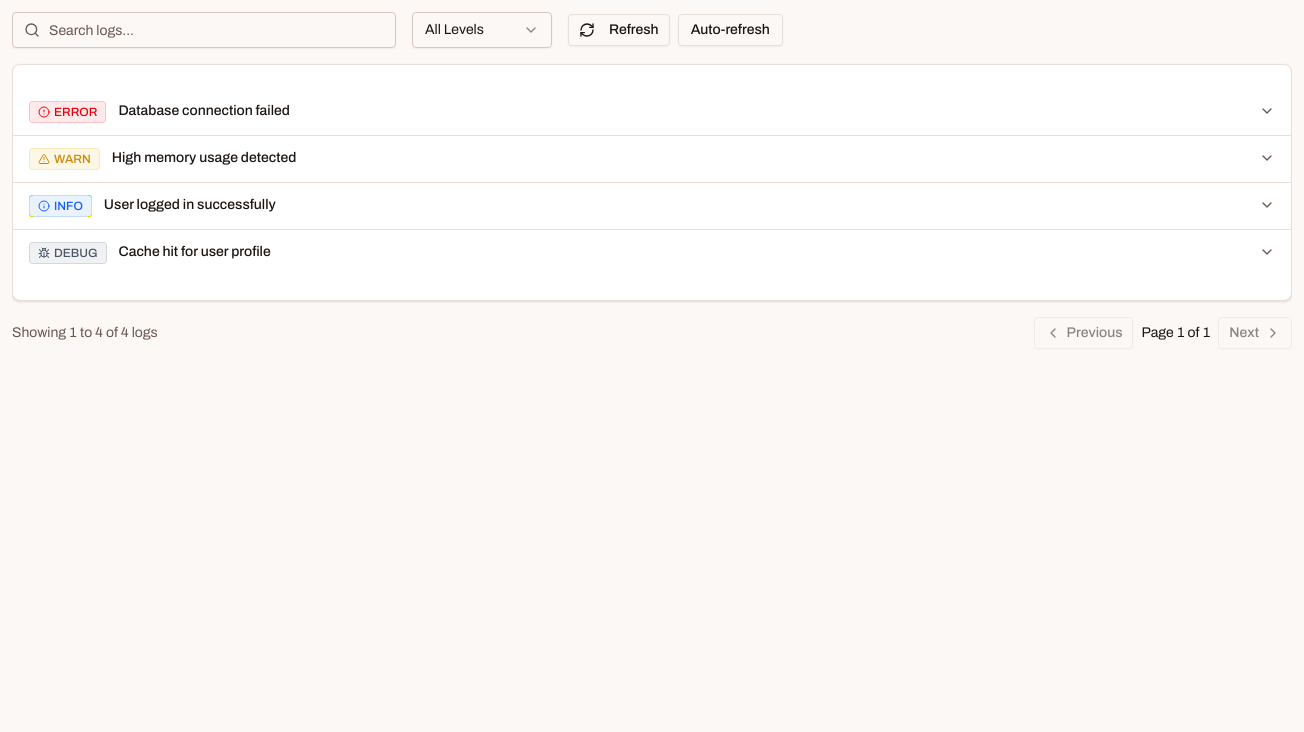
Test case: components/admin/logs-viewer › rendering › should display metadata in expandable accordion
The width and height of the screenshot is (1304, 732).
Click the button "WARN High memory usage detected": (64, 159) [13, 136, 1291, 182]
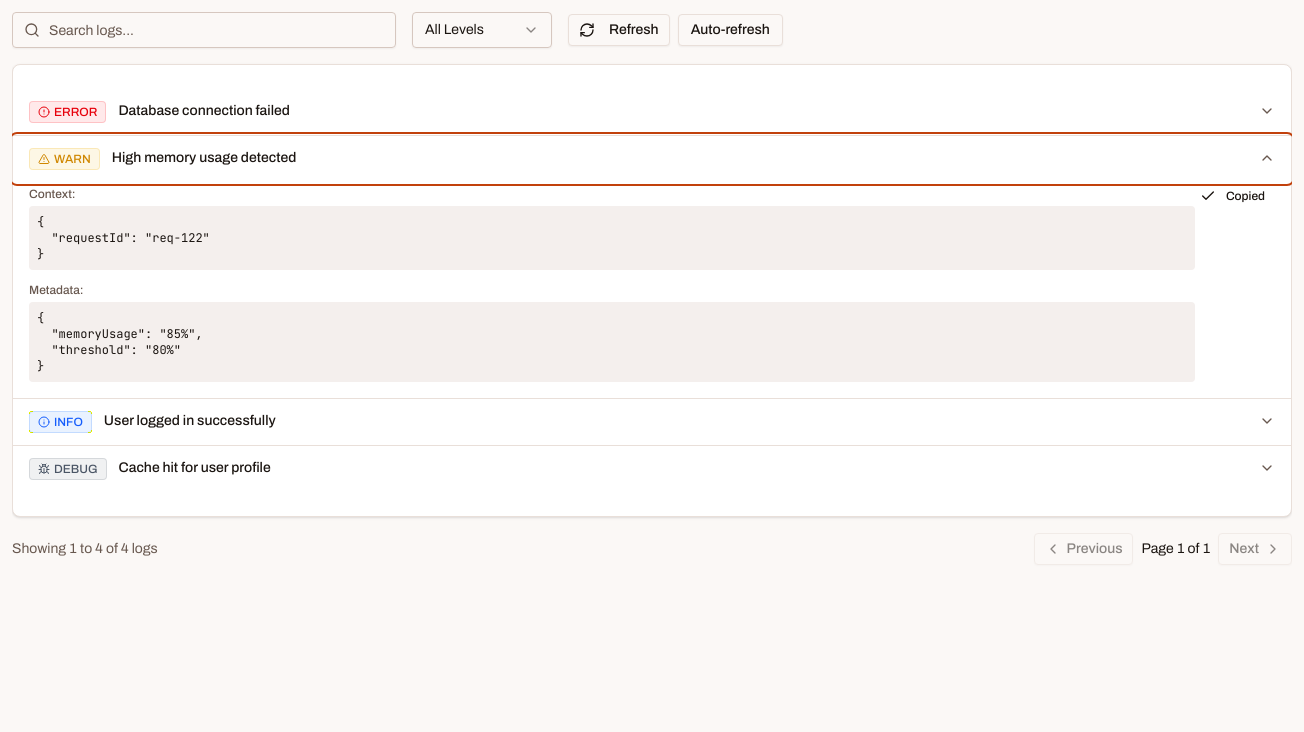
Check: the text "Metadata:" is shown, box [29, 283, 84, 297]
Check: the text "{ \"memoryUsage\": \"85%\", \"threshold\": \"80%\" }" is shown, box [29, 302, 1195, 382]
